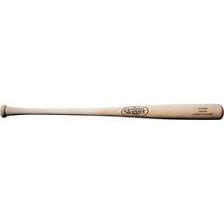bat: (1, 102, 224, 121)
